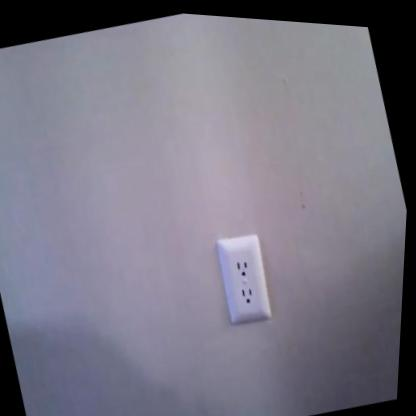OUTLET: (209, 229, 281, 329)
